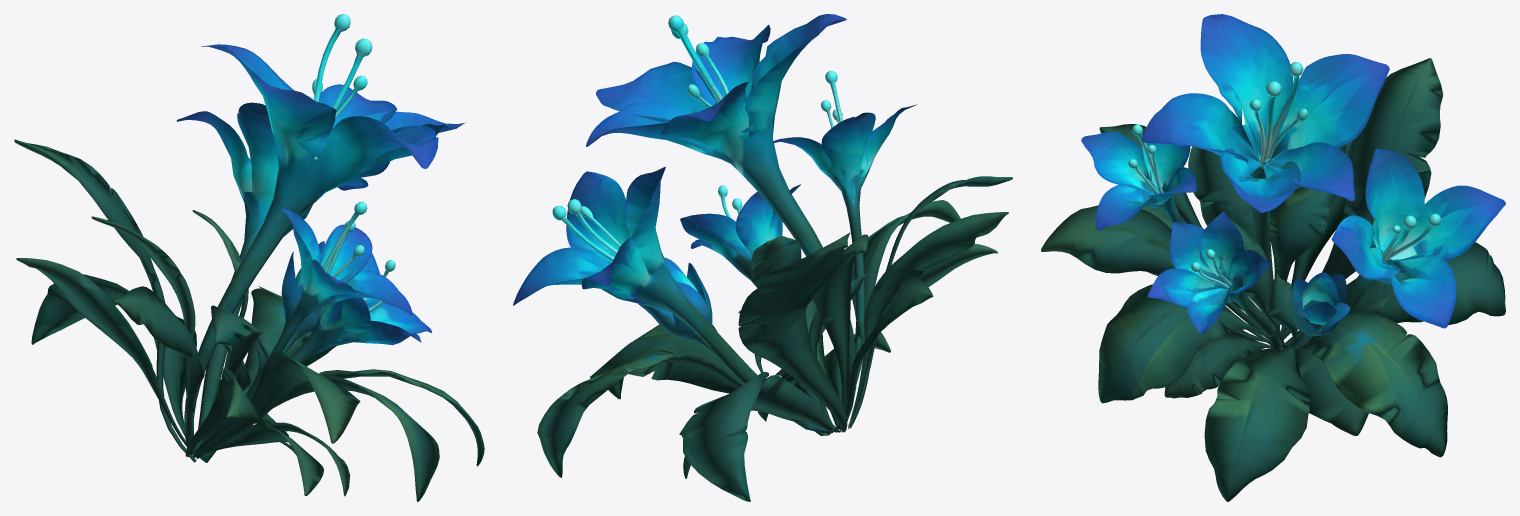
The model's file is flowers.fbx.
The picture shows the model from 3 angles, left to right: view 1: azimuth 30°, elevation 25°; view 2: azimuth 150°, elevation 25°; view 3: azimuth 270°, elevation 25°; orthographic projection. The views are drawn at different scales.
Visible parts, largest first — view 1: tripo_25915ee3_ad99_4115_81b3_8558df90c4b3; view 2: tripo_25915ee3_ad99_4115_81b3_8558df90c4b3; view 3: tripo_25915ee3_ad99_4115_81b3_8558df90c4b3.
Part boxes in pixels (x1,y1,x2,y2): tripo_25915ee3_ad99_4115_81b3_8558df90c4b3: (14,14,484,501); tripo_25915ee3_ad99_4115_81b3_8558df90c4b3: (513,14,1012,501); tripo_25915ee3_ad99_4115_81b3_8558df90c4b3: (1041,14,1505,501).
Bounding box in the file's own units: 0.8862 × 0.9438 × 0.9995.
1 material, 1 textured.
